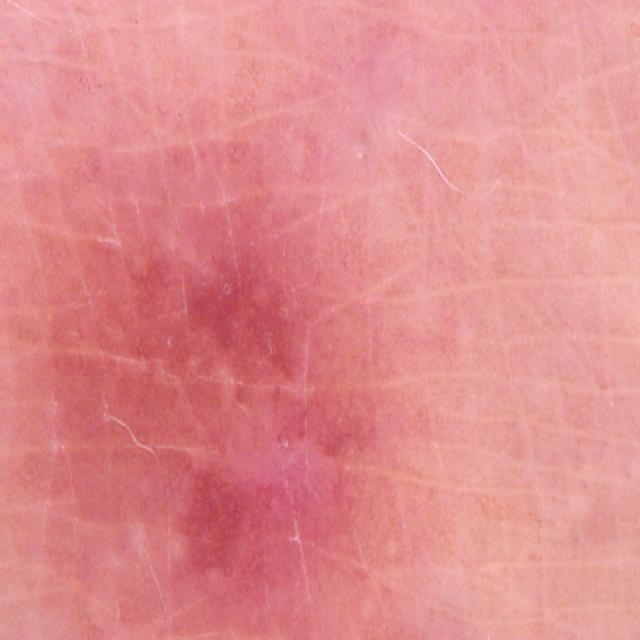Dermatofibroma: (58, 135, 411, 638)
